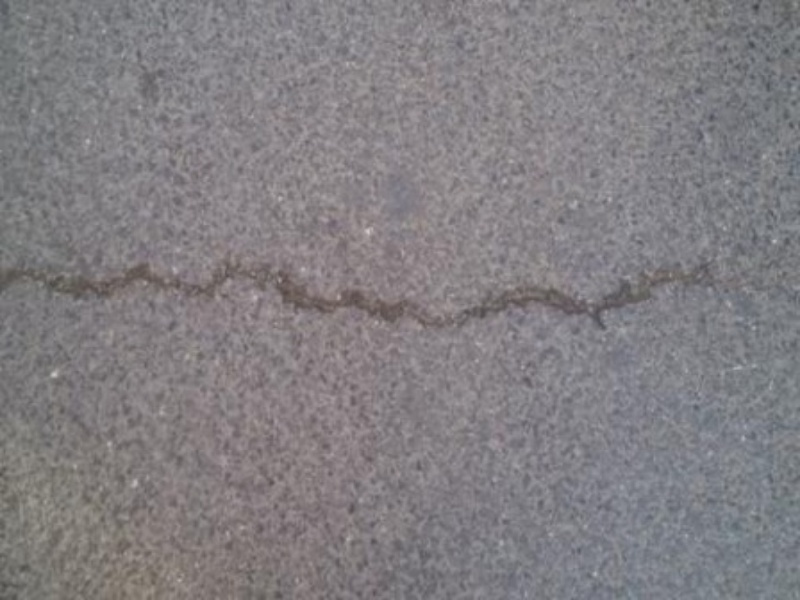crack: (1, 235, 748, 325)
